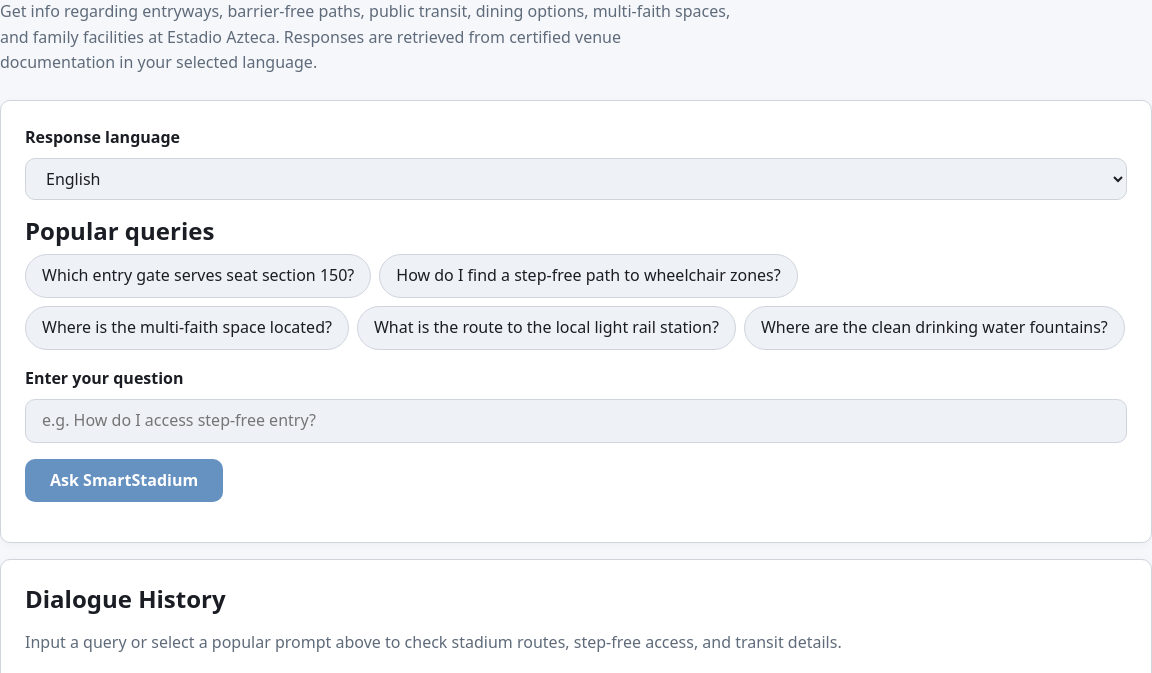
it: MatchGuidePage › runs a quick action without typing
Click the button "Where is the multi-faith space located?".
click(187, 328)  # box [25,306,349,350]
(page scrolled)
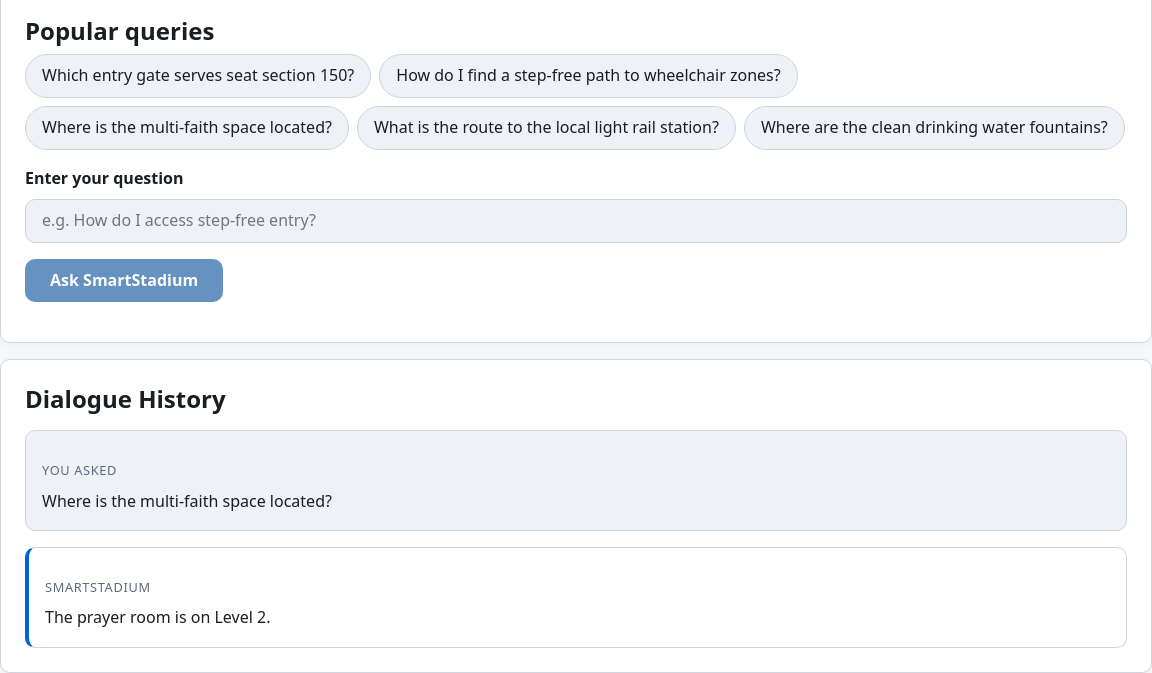
Result: the text "The prayer room is on Level 2." is shown at [45,606,270,628]
